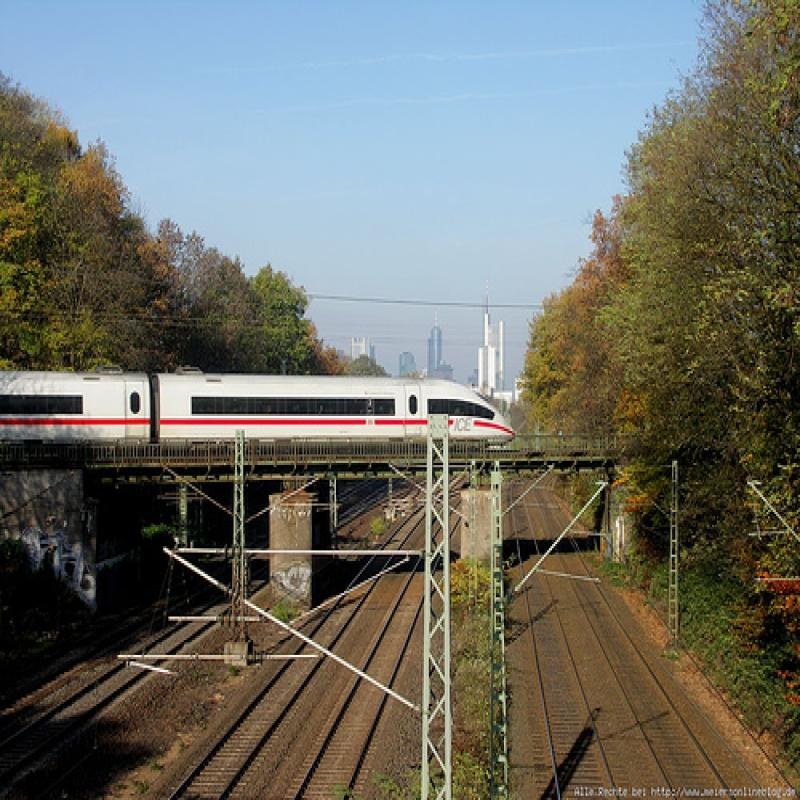train: (1, 362, 518, 456)
